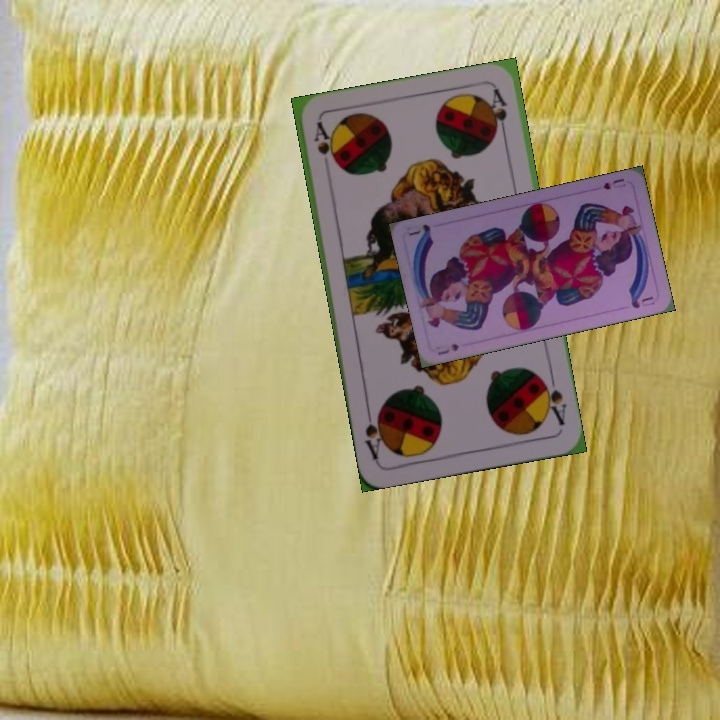SA: (537, 371, 569, 429), (310, 118, 337, 165)
SU: (599, 174, 628, 192), (433, 339, 461, 357)
